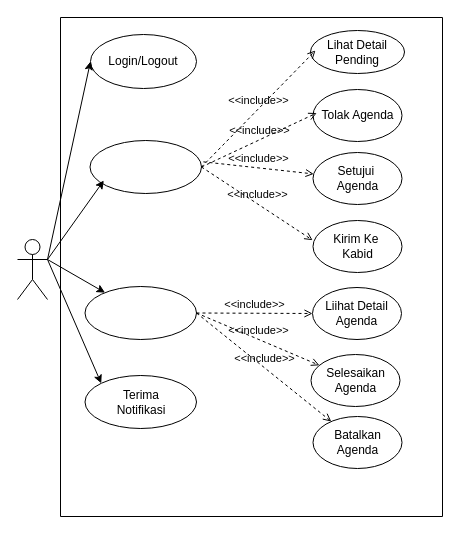
Some shapes in this 460 by 534 pixel diagram are drawn without their labels. The shapes that lost their labels are listed below. From the top down, each one's centre as x and y in pixels, then its label:
the point at 145,167: Lihat Agenda Pending
the point at 32,269: Kabid
the point at 140,313: Lihat Agenda Approve
